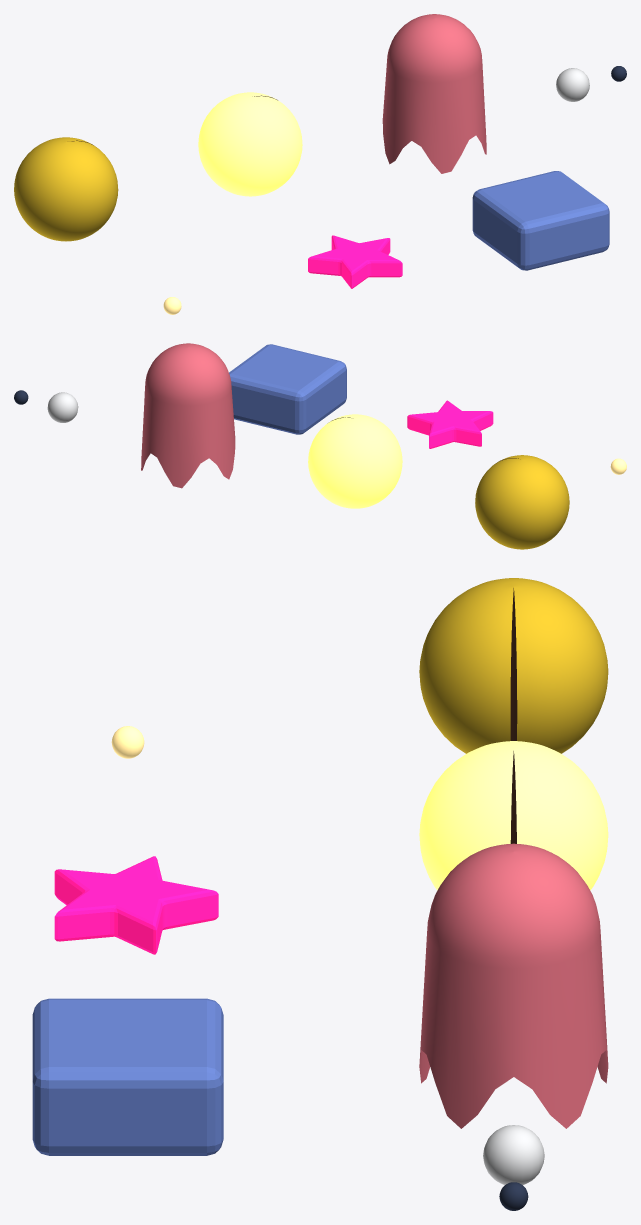
Rendered from arcade-kit.glb.
The picture shows the model from 3 angles, top to bottom: view 1: azimuth 30°, elevation 25°; view 2: azimuth 150°, elevation 25°; view 3: azimuth 270°, elevation 25°; orthographic projection. The views are drawn at different scales.
Visible parts, largest first — view 1: GhostBody, WallTile, Pacman, PacmanPower, PowerPellet, EyeWhite; view 2: GhostBody, WallTile, Pacman, PacmanPower, PowerPellet, EyeWhite; view 3: GhostBody, WallTile, Pacman, PacmanPower, PowerPellet, EyeWhite, Pellet.
Boxes of the visible parts, x1,y1,x2,y2 form: GhostBody: (382, 14, 486, 173); WallTile: (472, 171, 609, 270); Pacman: (14, 137, 118, 241); PacmanPower: (198, 92, 302, 196); PowerPellet: (308, 235, 402, 288); EyeWhite: (556, 68, 589, 101); GhostBody: (141, 343, 235, 488); WallTile: (229, 344, 346, 434); Pacman: (475, 455, 569, 549); PacmanPower: (308, 414, 402, 508); PowerPellet: (407, 400, 493, 448); EyeWhite: (47, 392, 78, 422); GhostBody: (419, 843, 608, 1128); WallTile: (32, 998, 223, 1155); Pacman: (419, 578, 608, 753); PacmanPower: (419, 741, 608, 890); PowerPellet: (54, 856, 218, 954); EyeWhite: (483, 1125, 544, 1185); Pellet: (111, 726, 144, 758).
Size of the model in its own units: 6.57 by 1.54 by 2.99.
